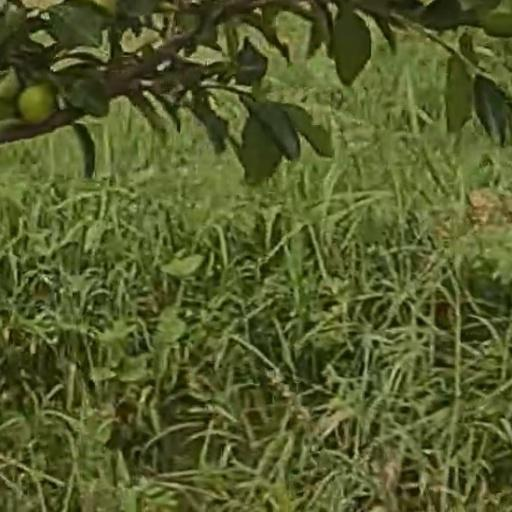acerola: (22, 88, 55, 124)
